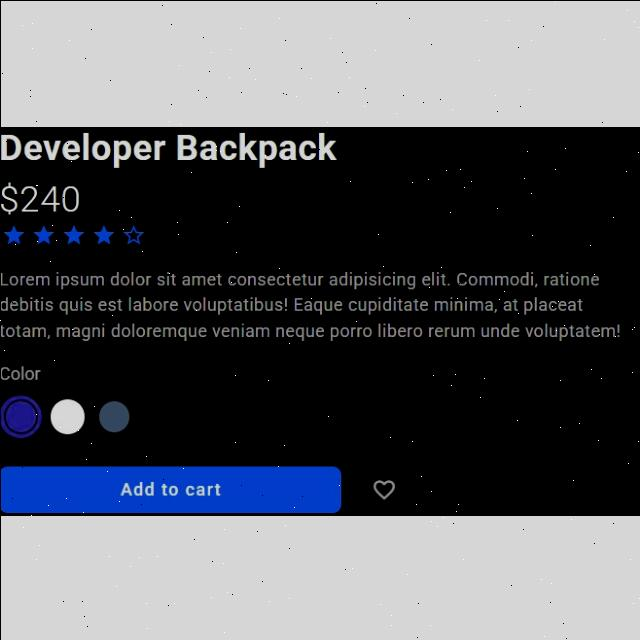QLabel: (1, 268, 622, 338), (0, 128, 336, 164), (0, 180, 80, 212), (119, 479, 221, 495), (1, 363, 40, 381)
VBtn: (1, 462, 342, 512)
VIcon: (371, 478, 395, 498)
VRadio: (0, 392, 40, 438), (48, 397, 86, 433), (98, 398, 130, 432)
VRating: (0, 220, 142, 244)
